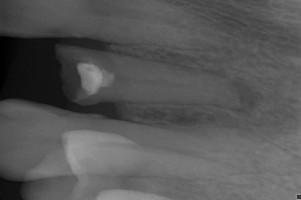Furcation Involvement: (232, 77, 266, 113)
